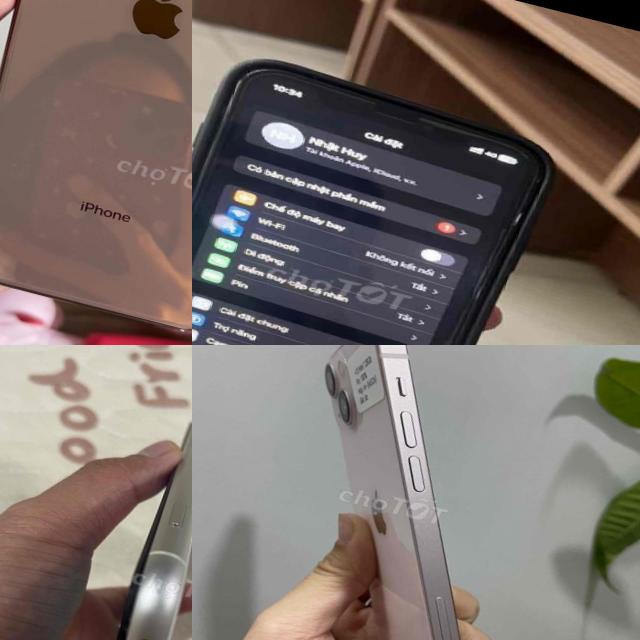gen_11: (63, 389, 192, 640)
gen_12_13: (241, 345, 561, 640)
gen_x_xs: (192, 29, 566, 345), (0, 0, 192, 345)
